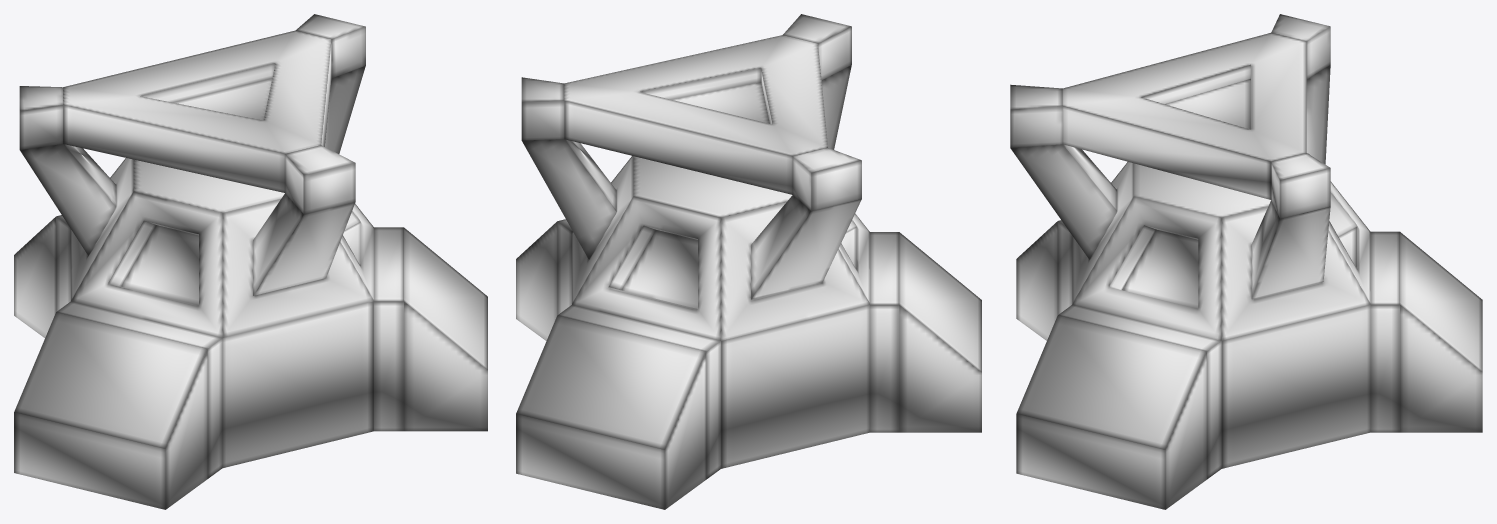
The model's file is Infirmary-01.fbx.
3 views of the same model, side by side, from view 1: azimuth 30°, elevation 25°; view 2: azimuth 150°, elevation 25°; view 3: azimuth 270°, elevation 25° (orthographic).
Parts seen in each view (by area): view 1: Infirmary-01; view 2: Infirmary-01; view 3: Infirmary-01.
Part boxes in pixels (<box>): Infirmary-01: <box>14,14,487,509</box>; Infirmary-01: <box>516,14,981,509</box>; Infirmary-01: <box>1010,14,1482,509</box>.
Size of the model in its own units: 1.67 by 1.03 by 1.47.
